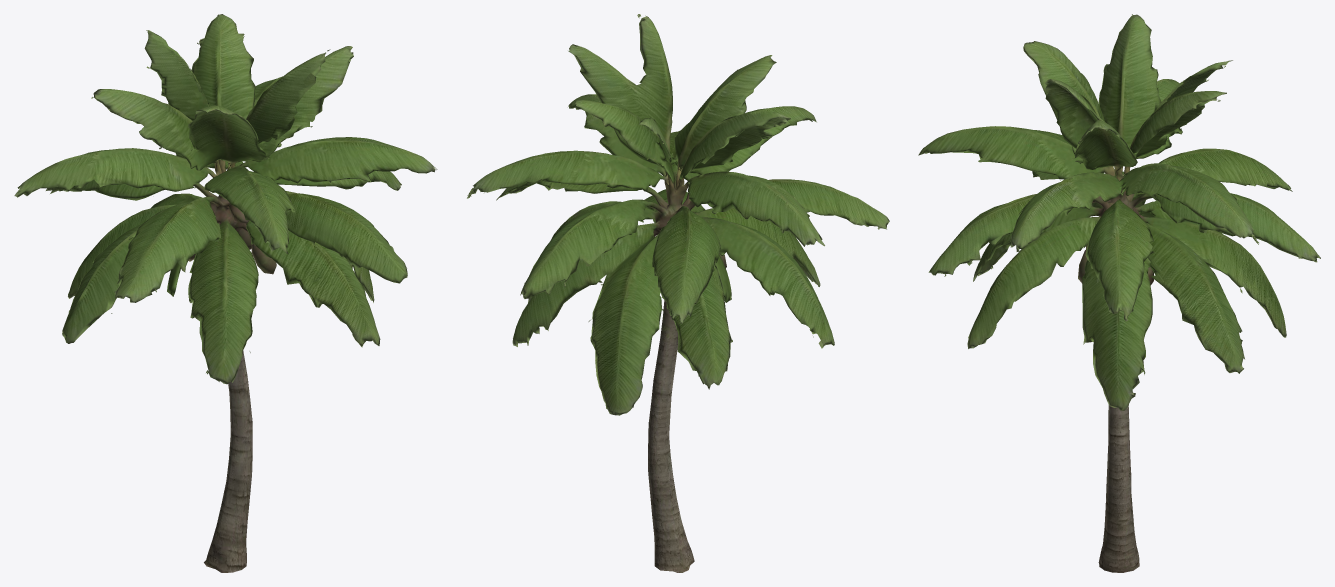
Rendered from cocotier.glb.
3 views of the same model, side by side, from view 1: azimuth 30°, elevation 25°; view 2: azimuth 150°, elevation 25°; view 3: azimuth 270°, elevation 25° (orthographic). The views are drawn at different scales.
Visible parts, largest first — view 1: tripo_node_e94568a3-8ef1-403b-9874-8f480ba463e0; view 2: tripo_node_e94568a3-8ef1-403b-9874-8f480ba463e0; view 3: tripo_node_e94568a3-8ef1-403b-9874-8f480ba463e0.
Part boxes in pixels (x1=…): tripo_node_e94568a3-8ef1-403b-9874-8f480ba463e0: x1=14, y1=14, x2=437, y2=572; tripo_node_e94568a3-8ef1-403b-9874-8f480ba463e0: x1=467, y1=14, x2=889, y2=572; tripo_node_e94568a3-8ef1-403b-9874-8f480ba463e0: x1=918, y1=14, x2=1320, y2=572.
Size of the model in its own units: 0.6926 by 0.9545 by 0.6732.
Materials: 1 (1 with a texture image).
